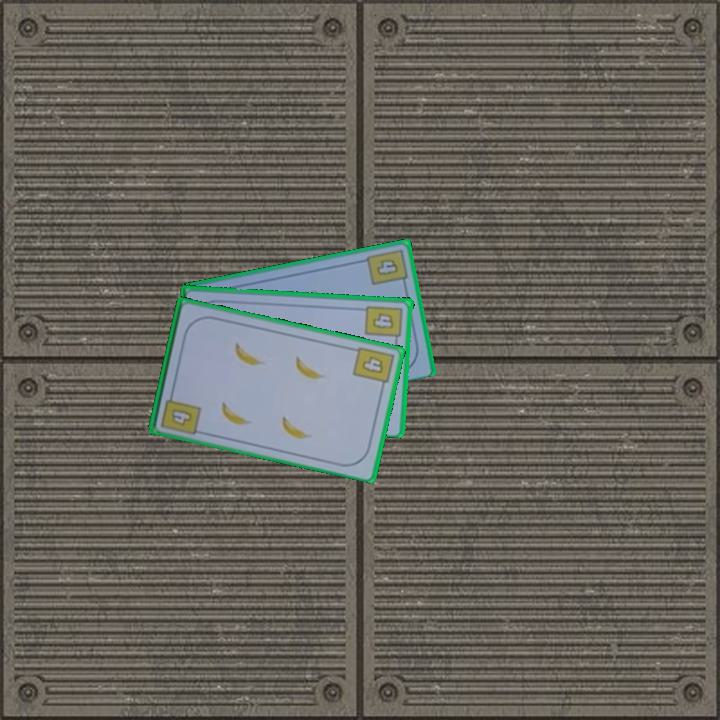4b: (157, 387, 204, 438), (349, 343, 397, 392), (363, 245, 410, 289), (362, 302, 406, 346)
